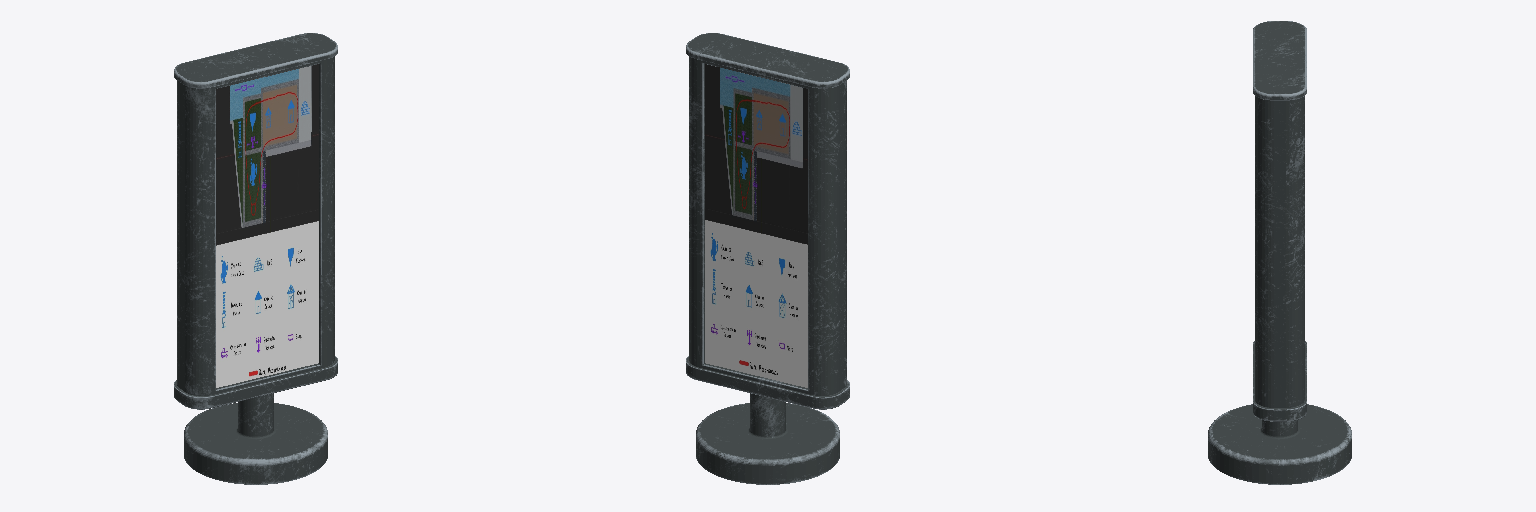
3 views of the same model, side by side, from view 1: azimuth 30°, elevation 25°; view 2: azimuth 150°, elevation 25°; view 3: azimuth 270°, elevation 25° (orthographic).
Visible parts, largest first — view 1: CityLight_Cube_004, Logo_Cube_002; view 2: CityLight_Cube_004, Logo_Cube_002; view 3: CityLight_Cube_004.
Boxes of the visible parts, box(x1,y1,x2,y2) form: CityLight_Cube_004: box(174, 33, 337, 484); Logo_Cube_002: box(216, 64, 318, 387); CityLight_Cube_004: box(686, 33, 849, 484); Logo_Cube_002: box(705, 64, 807, 387); CityLight_Cube_004: box(1208, 21, 1351, 484).
Bounding box in the file's own units: 4.88 × 12.09 × 4.
2 materials, 2 textured.